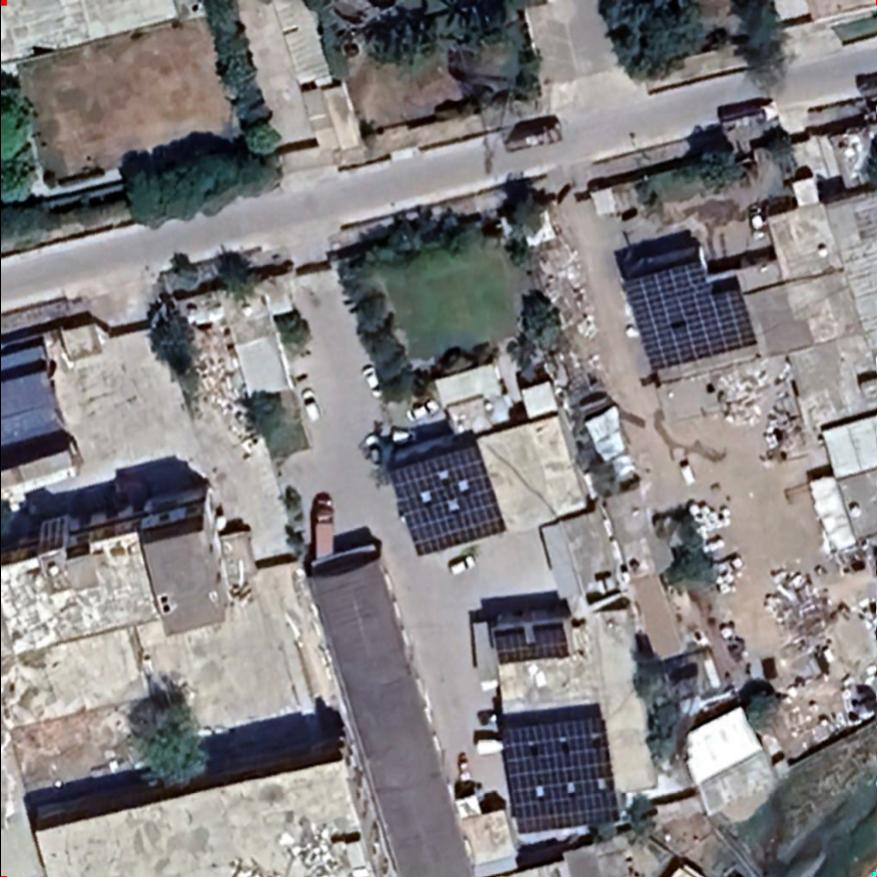Solarpanel: (621, 243, 763, 373), (492, 709, 623, 835), (383, 440, 511, 560), (486, 616, 571, 667)
